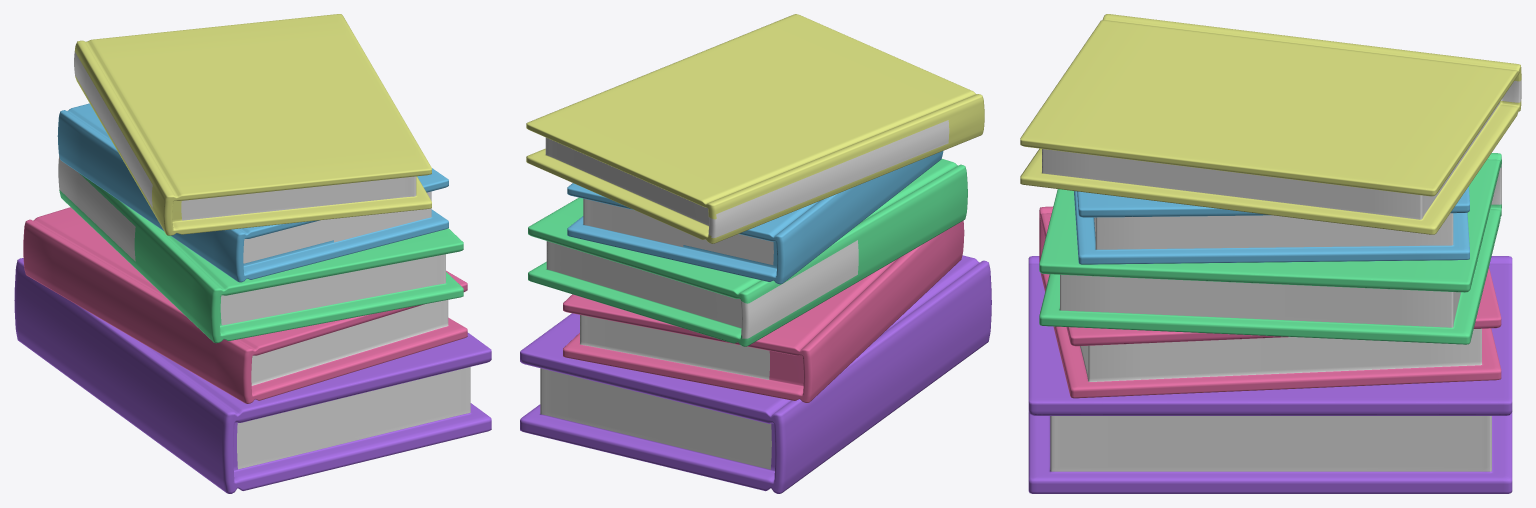
The model's file is libros.glb.
The picture shows the model from 3 angles, left to right: view 1: azimuth 30°, elevation 25°; view 2: azimuth 150°, elevation 25°; view 3: azimuth 270°, elevation 25°; orthographic projection. The views are drawn at different scales.
Visible parts, largest first — view 1: uploads_files_80163_general_books_OBJ.001, uploads_files_80163_general_books_OBJ, uploads_files_80163_general_books_OBJ.005, uploads_files_80163_general_books_OBJ.004, uploads_files_80163_general_books_OBJ.003, uploads_files_80163_general_books_OBJ.002; view 2: uploads_files_80163_general_books_OBJ.001, uploads_files_80163_general_books_OBJ, uploads_files_80163_general_books_OBJ.005, uploads_files_80163_general_books_OBJ.004, uploads_files_80163_general_books_OBJ.003, uploads_files_80163_general_books_OBJ.002; view 3: uploads_files_80163_general_books_OBJ, uploads_files_80163_general_books_OBJ.001, uploads_files_80163_general_books_OBJ.005, uploads_files_80163_general_books_OBJ.003, uploads_files_80163_general_books_OBJ.004, uploads_files_80163_general_books_OBJ.002.
Part boxes in pixels (left/top/right/bottom): uploads_files_80163_general_books_OBJ.001: left=75, top=14, right=431, bottom=235; uploads_files_80163_general_books_OBJ: left=58, top=51, right=470, bottom=469; uploads_files_80163_general_books_OBJ.005: left=14, top=258, right=491, bottom=493; uploads_files_80163_general_books_OBJ.004: left=23, top=207, right=467, bottom=403; uploads_files_80163_general_books_OBJ.003: left=59, top=173, right=463, bottom=343; uploads_files_80163_general_books_OBJ.002: left=57, top=103, right=448, bottom=282; uploads_files_80163_general_books_OBJ.001: left=526, top=14, right=984, bottom=243; uploads_files_80163_general_books_OBJ: left=540, top=120, right=949, bottom=469; uploads_files_80163_general_books_OBJ.005: left=520, top=255, right=991, bottom=493; uploads_files_80163_general_books_OBJ.004: left=563, top=220, right=964, bottom=402; uploads_files_80163_general_books_OBJ.003: left=528, top=159, right=967, bottom=346; uploads_files_80163_general_books_OBJ.002: left=567, top=151, right=943, bottom=284; uploads_files_80163_general_books_OBJ: left=1042, top=80, right=1521, bottom=471; uploads_files_80163_general_books_OBJ.001: left=1020, top=14, right=1521, bottom=234; uploads_files_80163_general_books_OBJ.005: left=1028, top=256, right=1512, bottom=493; uploads_files_80163_general_books_OBJ.003: left=1039, top=153, right=1501, bottom=344; uploads_files_80163_general_books_OBJ.004: left=1039, top=206, right=1501, bottom=398; uploads_files_80163_general_books_OBJ.002: left=1074, top=186, right=1469, bottom=264.
Size of the model in its own units: 7.59 by 6.35 by 9.04.
